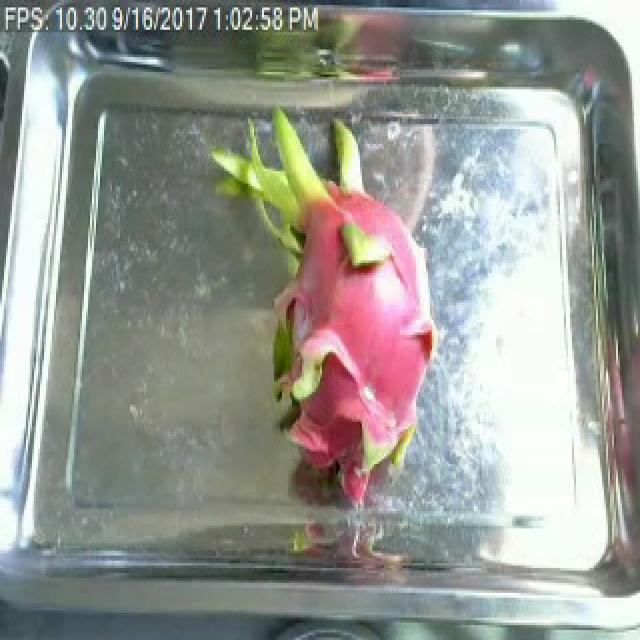fruit: (212, 101, 444, 514)
